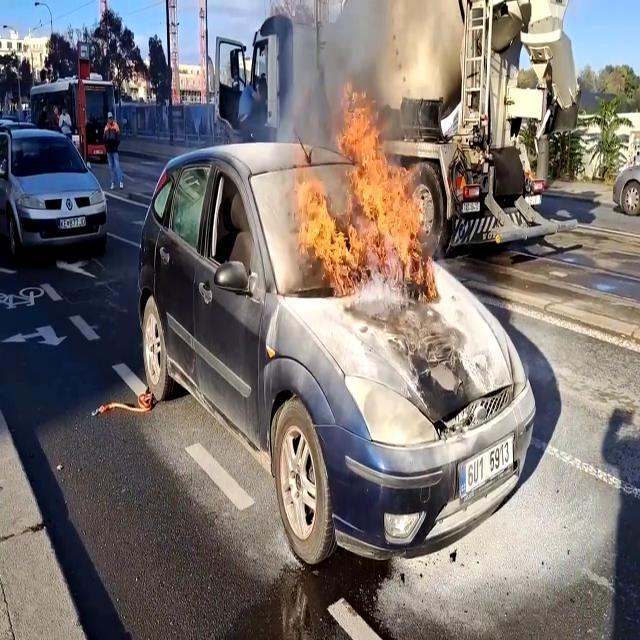Fire: (286, 121, 430, 292)
Smoke: (272, 0, 471, 134)
